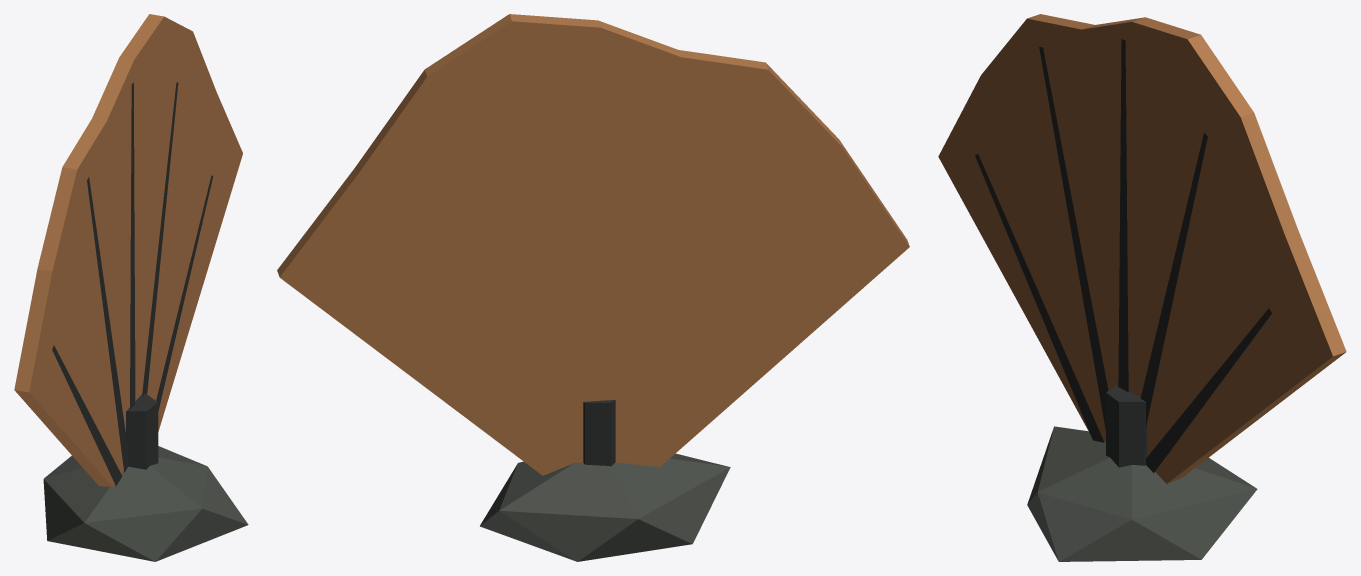
Rendered from fan_a.glb.
The picture shows the model from 3 angles, left to right: view 1: azimuth 30°, elevation 25°; view 2: azimuth 150°, elevation 25°; view 3: azimuth 270°, elevation 25°; orthographic projection. The views are drawn at different scales.
Visible parts, largest first — view 1: fan_a; view 2: fan_a; view 3: fan_a.
Part boxes in pixels (<box>): fan_a: <box>14,14,248,561</box>; fan_a: <box>277,14,909,561</box>; fan_a: <box>938,14,1346,561</box>.
Bounding box in the file's own units: 1.17 × 1.3 × 0.9414.
